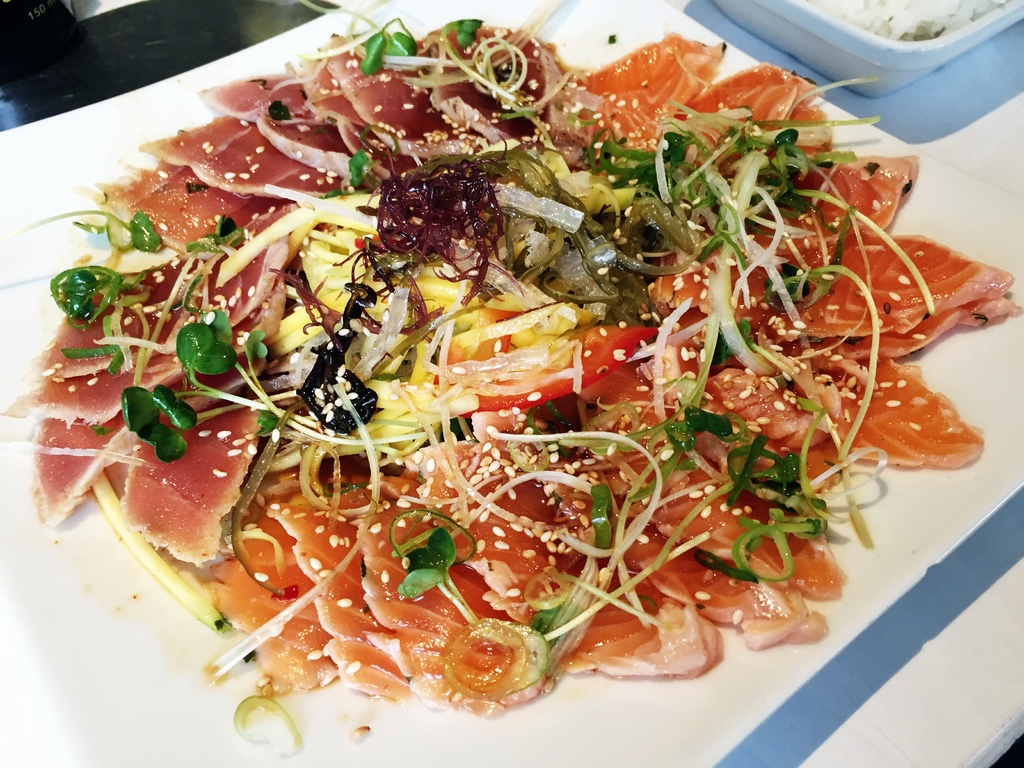salad: (13, 22, 969, 719)
